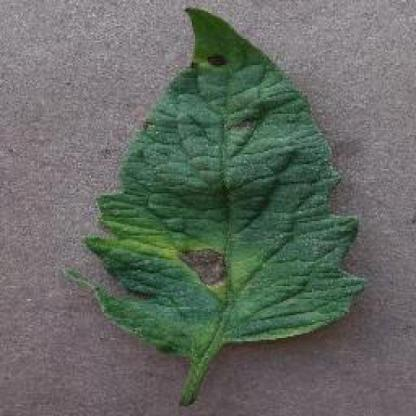Tomato_Blight: (66, 8, 362, 353)
